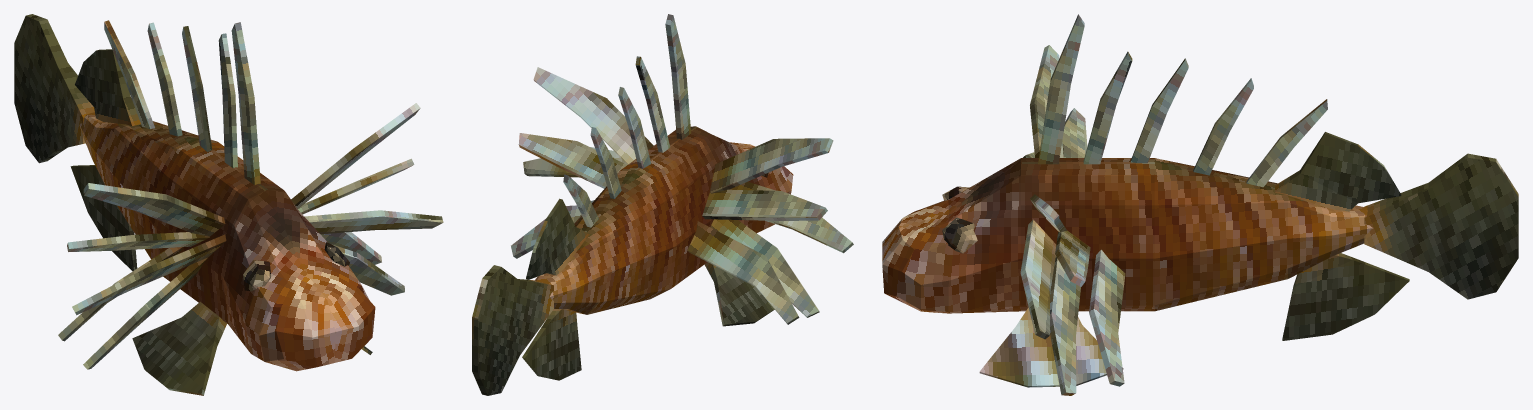
The model's file is Lionfish_1.glb.
The picture shows the model from 3 angles, left to right: view 1: azimuth 30°, elevation 25°; view 2: azimuth 150°, elevation 25°; view 3: azimuth 270°, elevation 25°; orthographic projection. The views are drawn at different scales.
Parts seen in each view (by area): view 1: Lionfish; view 2: Lionfish; view 3: Lionfish.
Boxes of the visible parts, x1=… form: Lionfish: x1=14, y1=14, x2=443, y2=395; Lionfish: x1=472, y1=14, x2=853, y2=395; Lionfish: x1=882, y1=14, x2=1518, y2=395.
Size of the model in its own units: 1.06 by 0.8942 by 1.58.
Materials: 1 (1 with a texture image).
